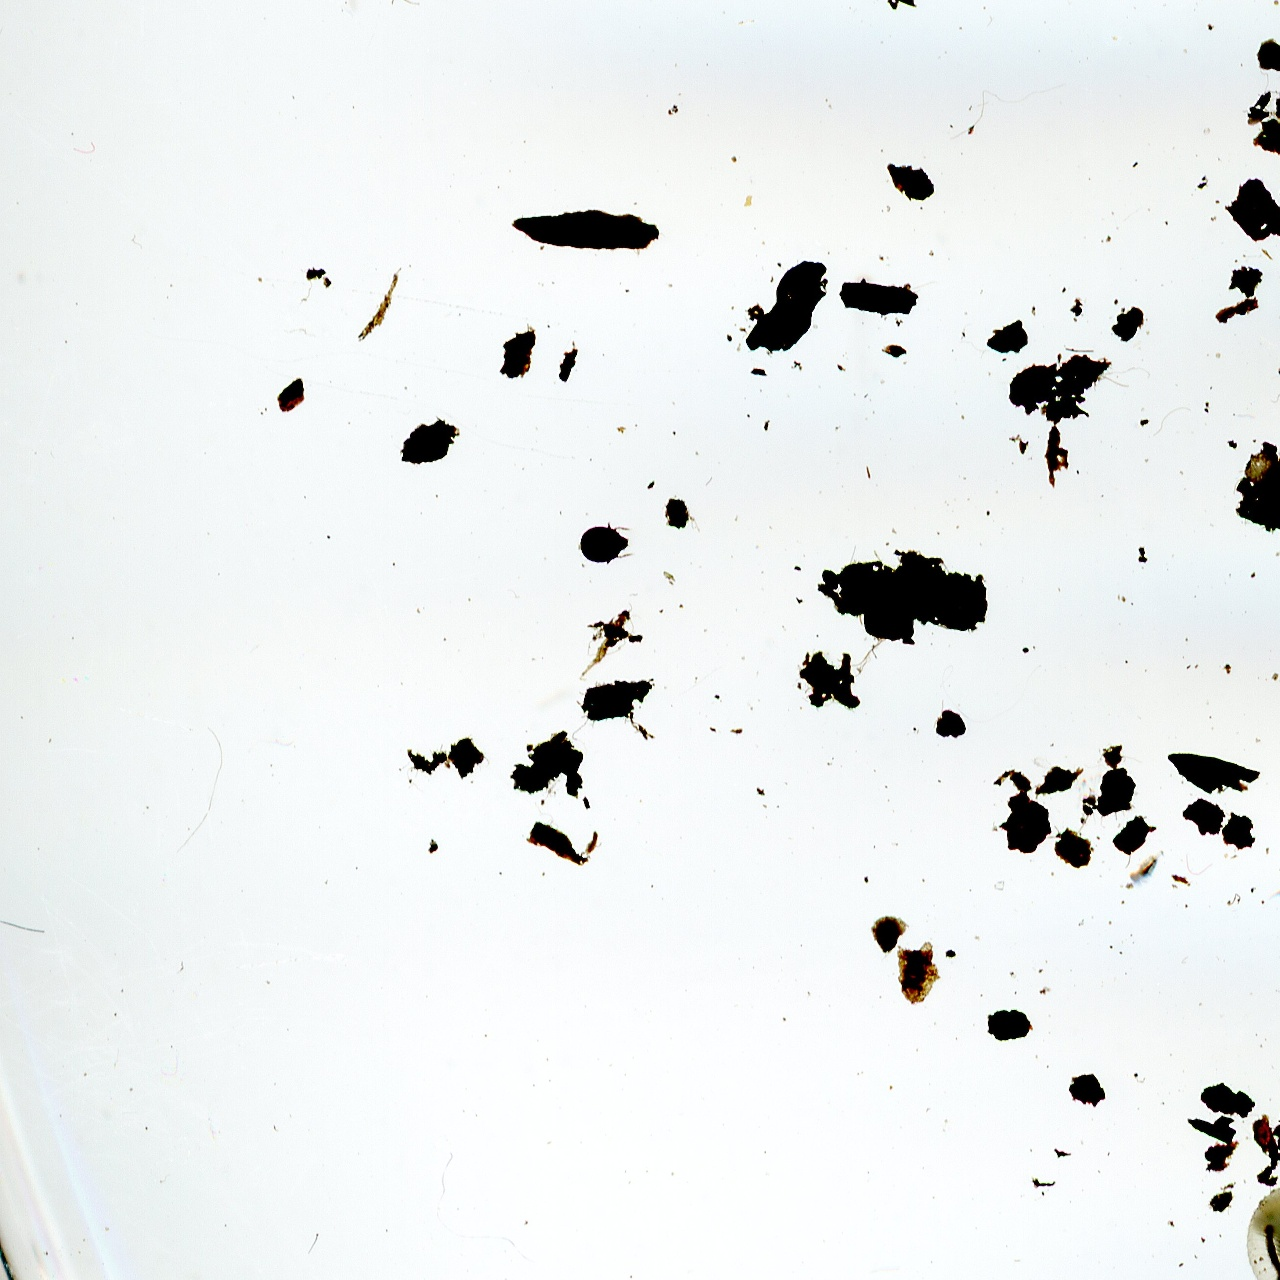arthropod: (1244, 1179, 1280, 1280), (575, 519, 639, 568), (1127, 847, 1165, 893), (1266, 860, 1280, 901)
